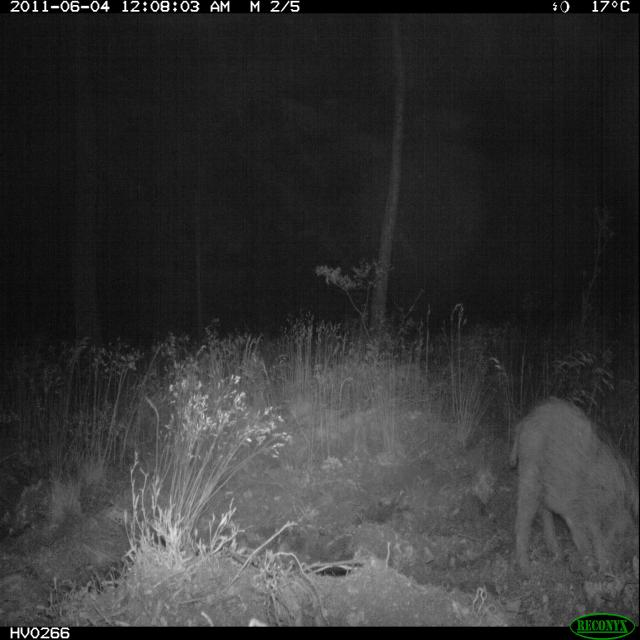boar: (495, 357, 640, 609)
